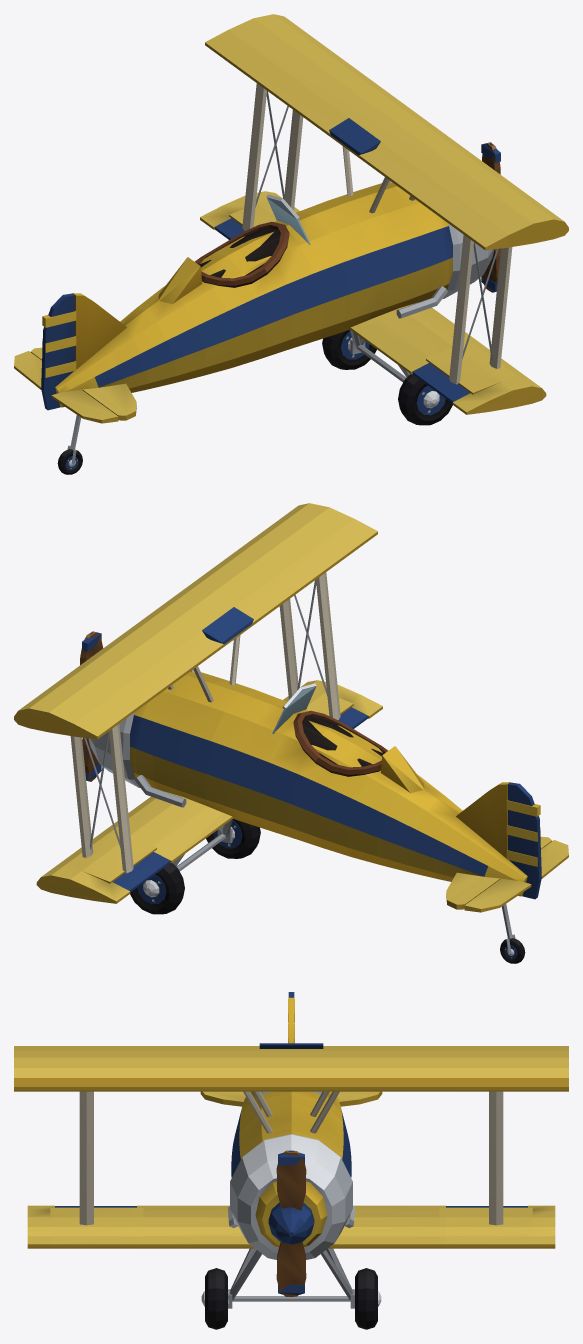
File: mt_plane_yellow.glb
3 views of the same model, one above another, from view 1: azimuth 30°, elevation 25°; view 2: azimuth 150°, elevation 25°; view 3: azimuth 270°, elevation 25° (orthographic).
Parts seen in each view (by area): view 1: base, rudder_m, elevator_m, wheelR_m, wheelL_m, aileronR_m, prop_m; view 2: base, rudder_m, elevator_m, wheelL_m, wheelR_m, aileronL_m, prop_m; view 3: base, prop_m, wheelL_m, wheelR_m.
Boxes of the visible parts, x1,y1,x2,y2 form: base: (30, 14, 568, 464); rudder_m: (41, 293, 76, 410); elevator_m: (14, 351, 118, 423); wheelR_m: (398, 374, 452, 425); wheelL_m: (322, 330, 376, 369); aileronR_m: (412, 363, 470, 403); prop_m: (481, 142, 500, 292); base: (14, 503, 552, 953); rudder_m: (506, 782, 541, 899); elevator_m: (464, 840, 568, 912); wheelL_m: (130, 863, 184, 914); wheelR_m: (206, 819, 260, 858); aileronL_m: (112, 852, 170, 892); prop_m: (80, 631, 103, 781); base: (14, 997, 568, 1308); prop_m: (268, 1150, 314, 1296); wheelL_m: (354, 1268, 381, 1329); wheelR_m: (201, 1268, 228, 1329).
Bounding box in the file's own units: 1.18 × 0.659 × 1.22.
